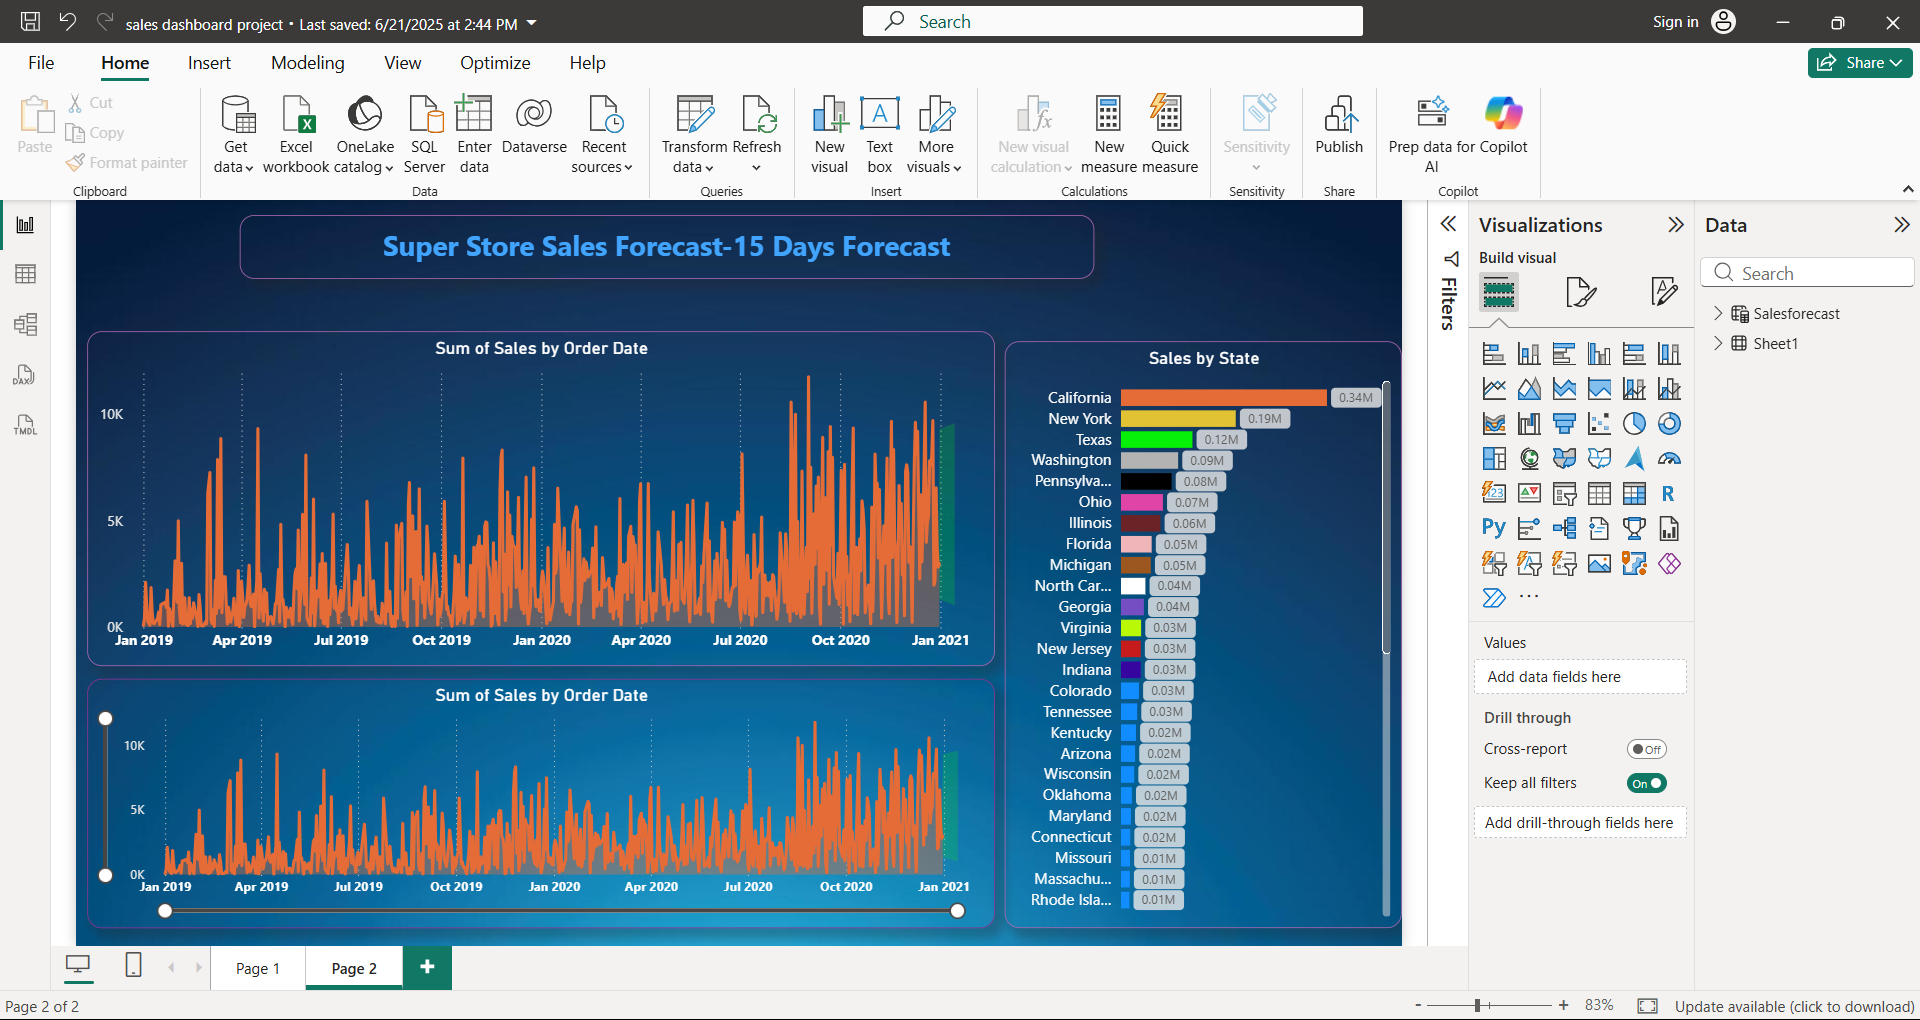

The page's visual inventory and layout, read from the dashboard file:
{"tool":"powerbi","page":{"name":"Page 2","canvas":[1280,720],"ordinal":1},"visuals":[{"type":"lineChart","fields":{"Y":["Sum(Sheet1.Sales)"],"Category":["Sheet1.Order Date"]},"box":[11,126.5,876,323.2],"z":0},{"type":"lineChart","fields":{"Y":["Sum(Sheet1.Sales)"],"Category":["Sheet1.Order Date"]},"box":[11,462.1,876,240.7],"z":1000},{"type":"textbox","box":[158.3,15,824.4,61.4],"z":2000},{"type":"clusteredBarChart","title":"Sales by State","fields":{"Y":["Sum(Sheet1.Sales)"],"Category":["Sheet1.State"]},"box":[896.7,136.5,383.5,566.4],"z":3000}]}

Visuals, with their boxes on the page's 1280x720 design canvas (x1, y1, x2, y2). These are canvas units, not pixel positions in the 1920x1020 screenshot, which may show the page scaled, cropped or inside an application window:
lineChart - Sum(Sheet1.Sales) x Sheet1.Order Date: [11,126,887,450]
lineChart - Sum(Sheet1.Sales) x Sheet1.Order Date: [11,462,887,703]
textbox: [158,15,983,76]
"Sales by State" clusteredBarChart: [897,136,1280,703]
